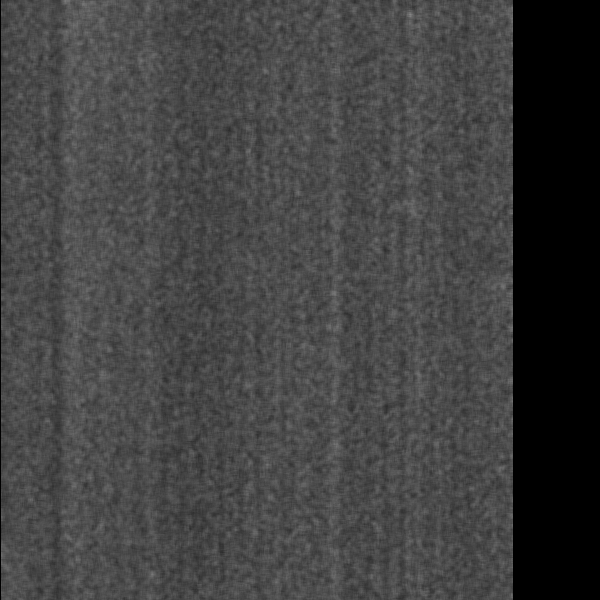spark: (354, 319, 379, 445), (414, 565, 492, 600), (213, 370, 260, 410), (145, 536, 174, 595), (201, 574, 261, 600), (217, 443, 253, 468), (7, 209, 22, 236), (7, 183, 20, 198)
